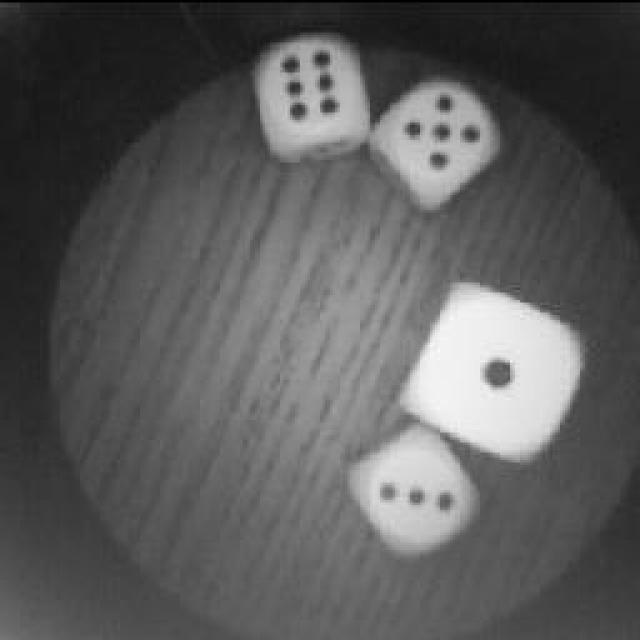dice_1: (392, 282, 588, 462)
dice_3: (345, 435, 480, 557)
dice_5: (370, 65, 505, 197)
dice_6: (252, 28, 378, 162)
